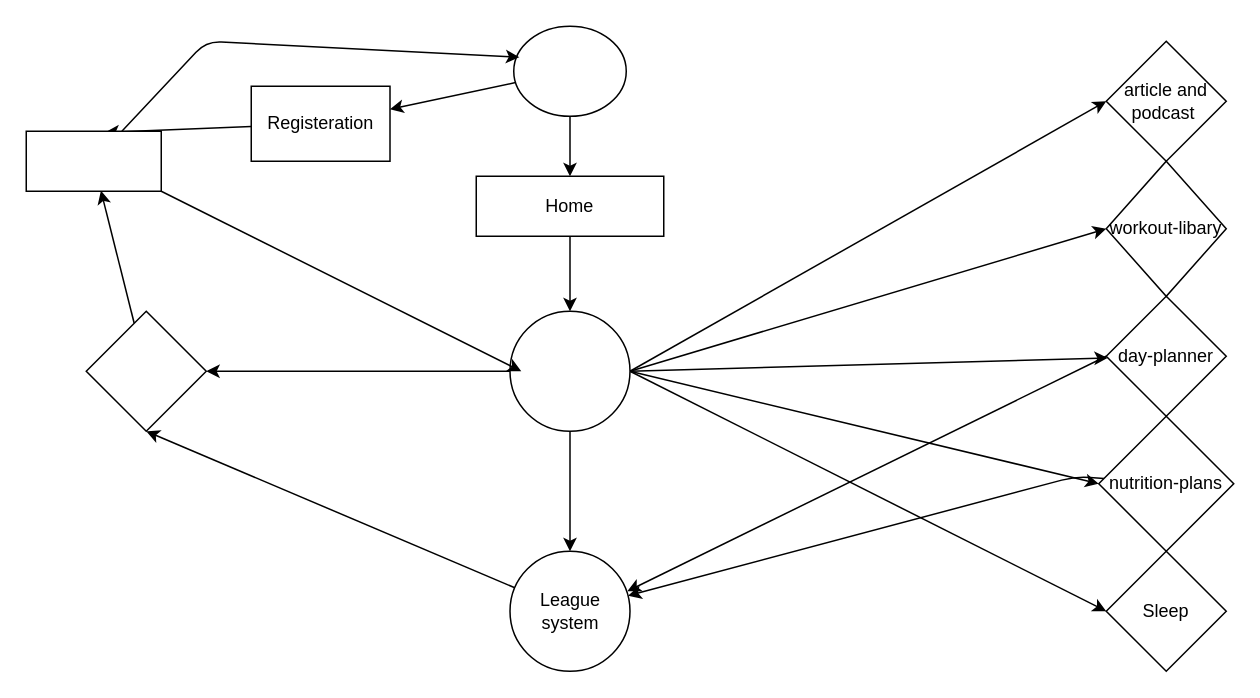
This 1260x698 diagram has some shape labels left out. Here are the shapes that lost their labels. From the top down, the centre of each, then its label:
At pixel 569 70: "Login".
At pixel 93 160: "Base".
At pixel 145 370: "community".
At pixel 569 370: "Account".
